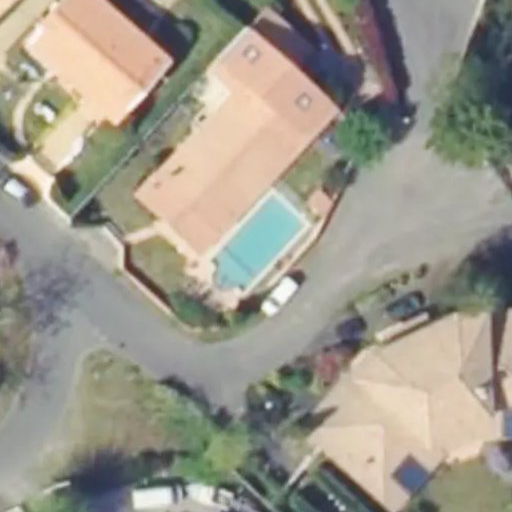pool: (208, 191, 310, 297)
